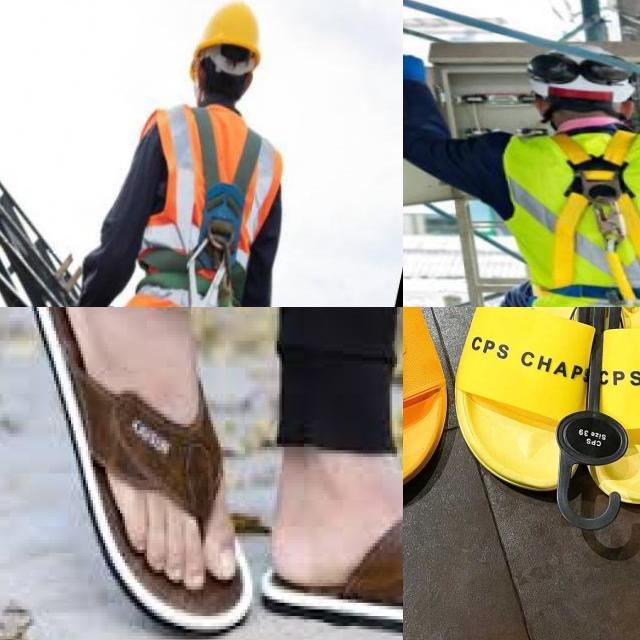Harness: (552, 131, 640, 304), (187, 107, 263, 307)
Sandals: (29, 307, 255, 637), (444, 307, 640, 526), (261, 437, 403, 640)
